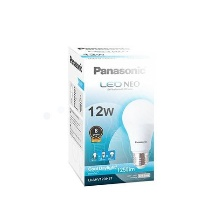carton: (65, 38, 160, 192)
